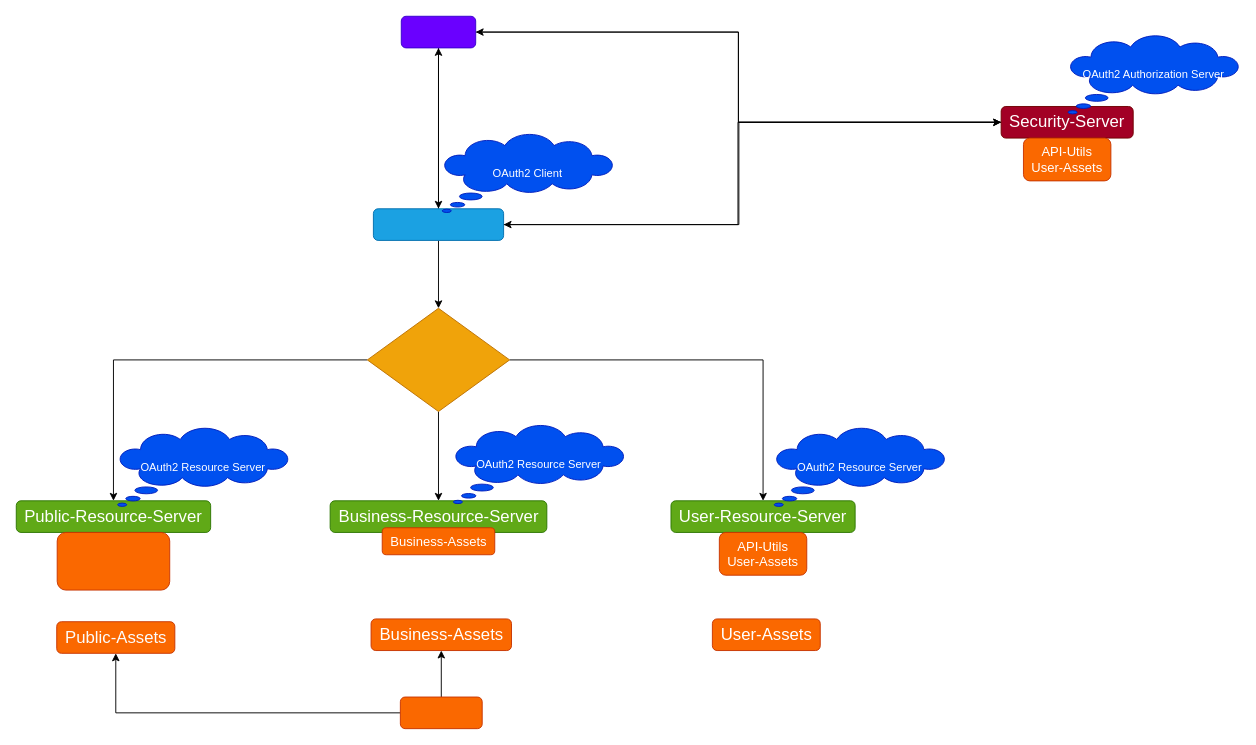
The diagram is 1256 pixels wide and 745 high, and some of its shapes have lost their labels. Here are the shapes that lost their labels. From the top down, the centre of each, then its label:
pixel 438 31: Angular
pixel 438 224: Backend-Client
pixel 438 359: Spring Cloud Gateway
pixel 113 560: Public-Assets Business-Assets User-Assets
pixel 440 712: API-Utils
